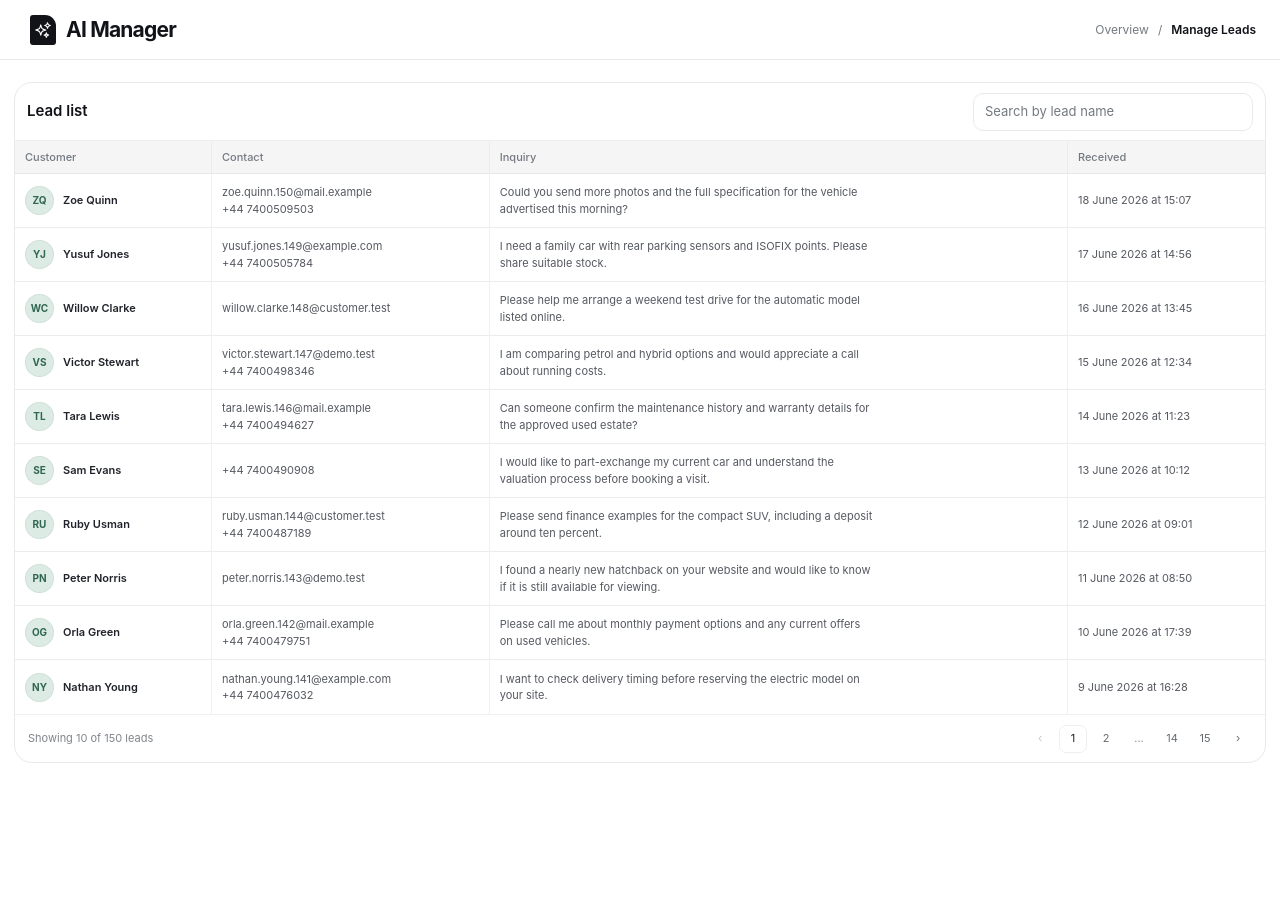
Test: lead browse and read workflow › searches lead names through the lead list API
Expected: the text "Showing 10 of 150 leads" is shown, [28,730,153,747]
Type "Anna" into the search field labelled "Search by lead name" at (1113, 112), box [973,92,1253,130]
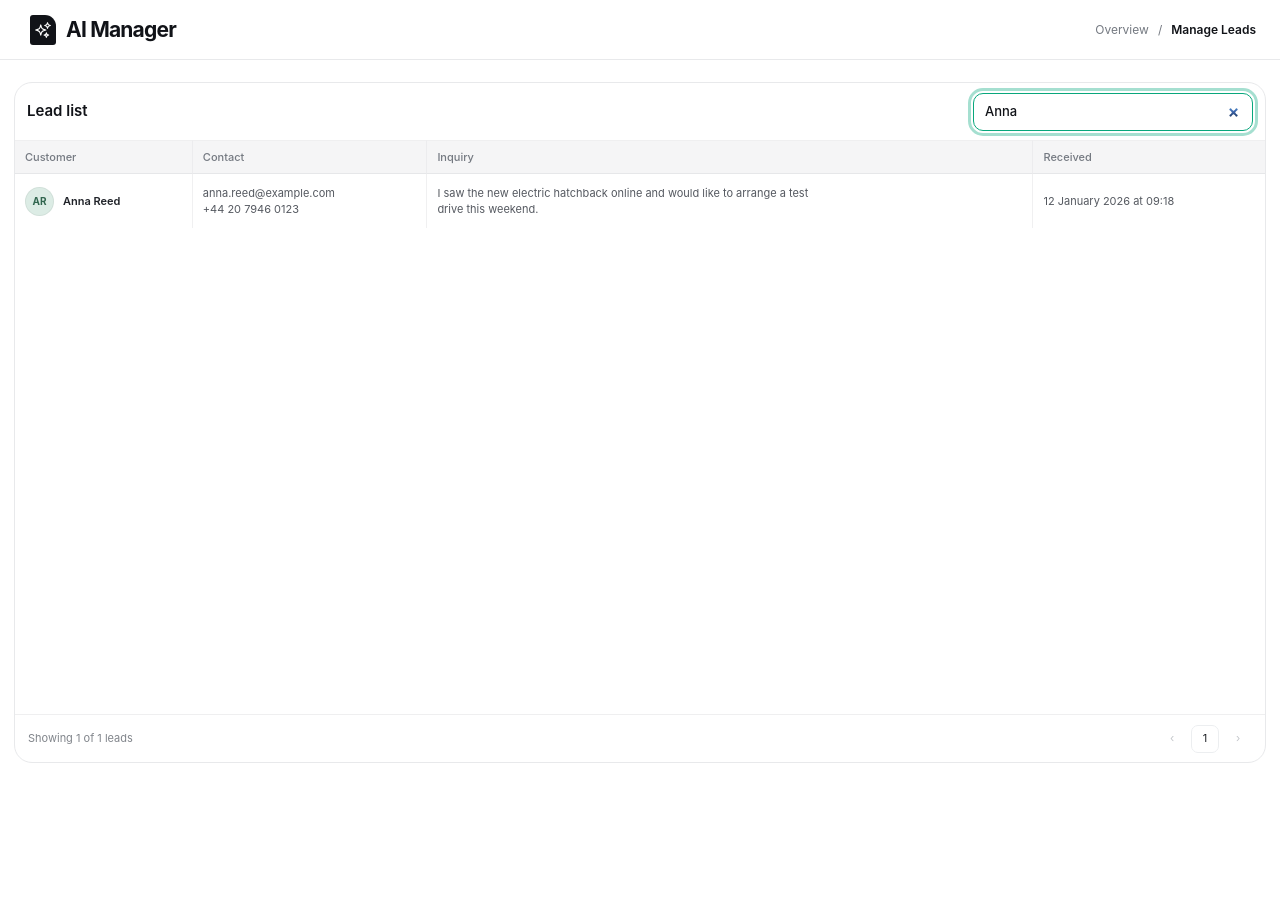
Result: the text "Showing 1 of 1 leads" is shown at [28,730,133,747]
Result: the link "AR Anna Reed" is shown at [25,186,120,216]
Replace the text in the search field named "Search by lead name" with "Unknown lead" at (1113, 112), box [973,92,1253,130]
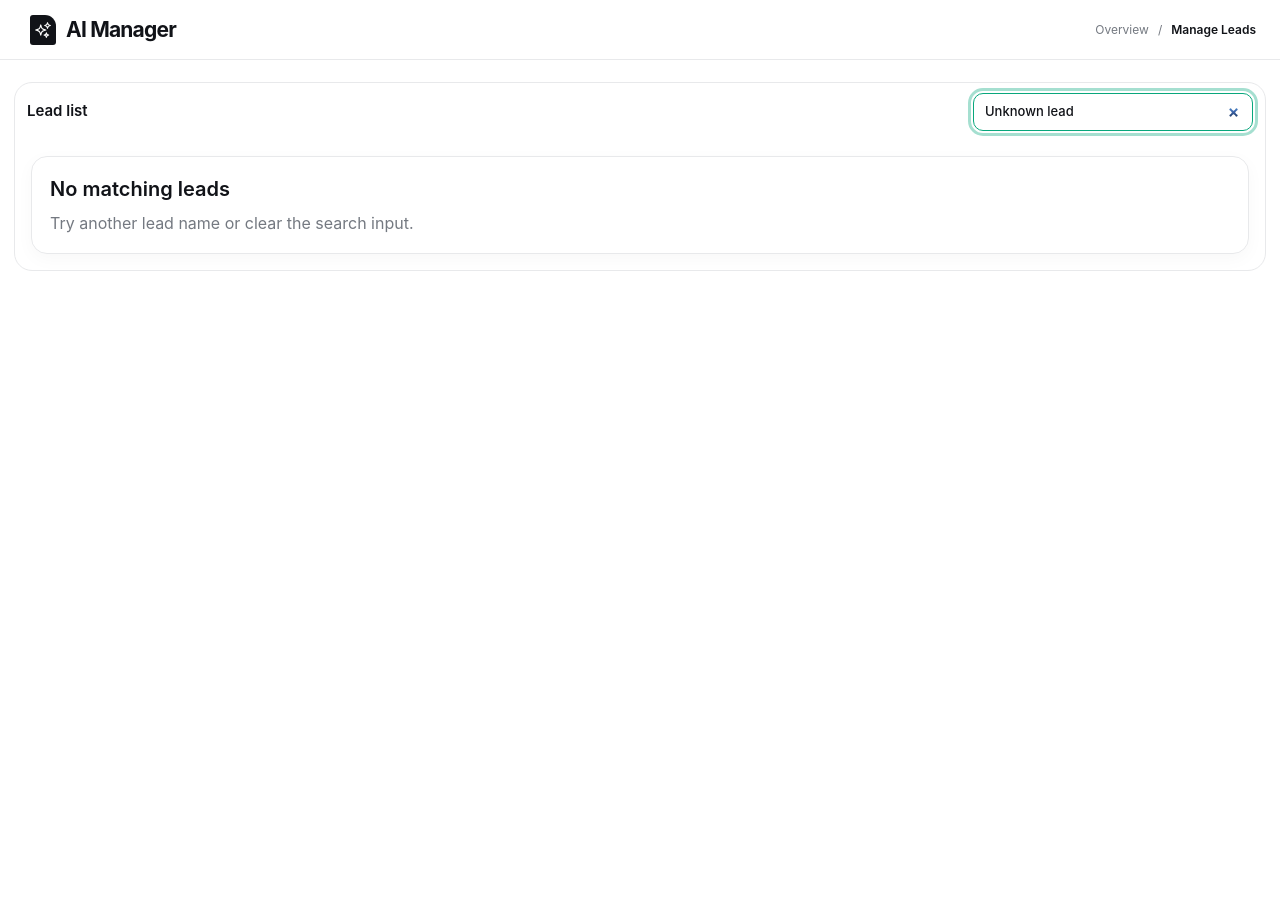
Result: the heading "No matching leads" is shown at [50,177,230,201]
